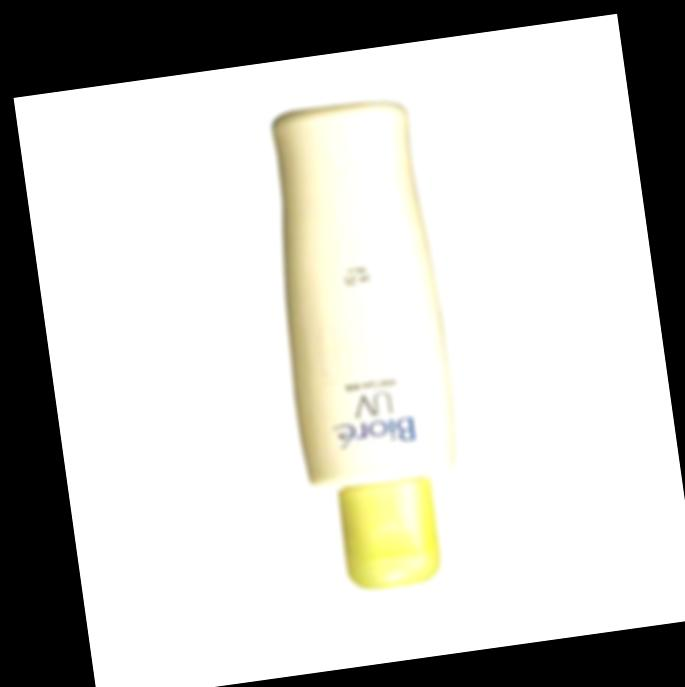cosmetic: (255, 94, 478, 601)
